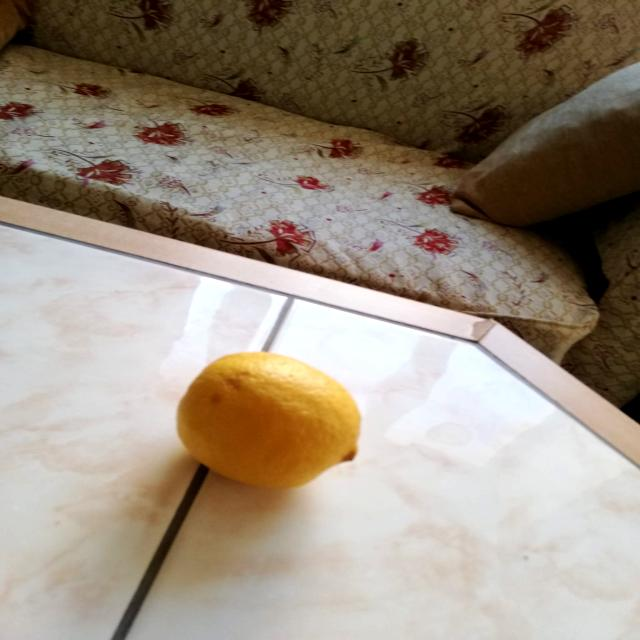lemon: (170, 344, 373, 496)
